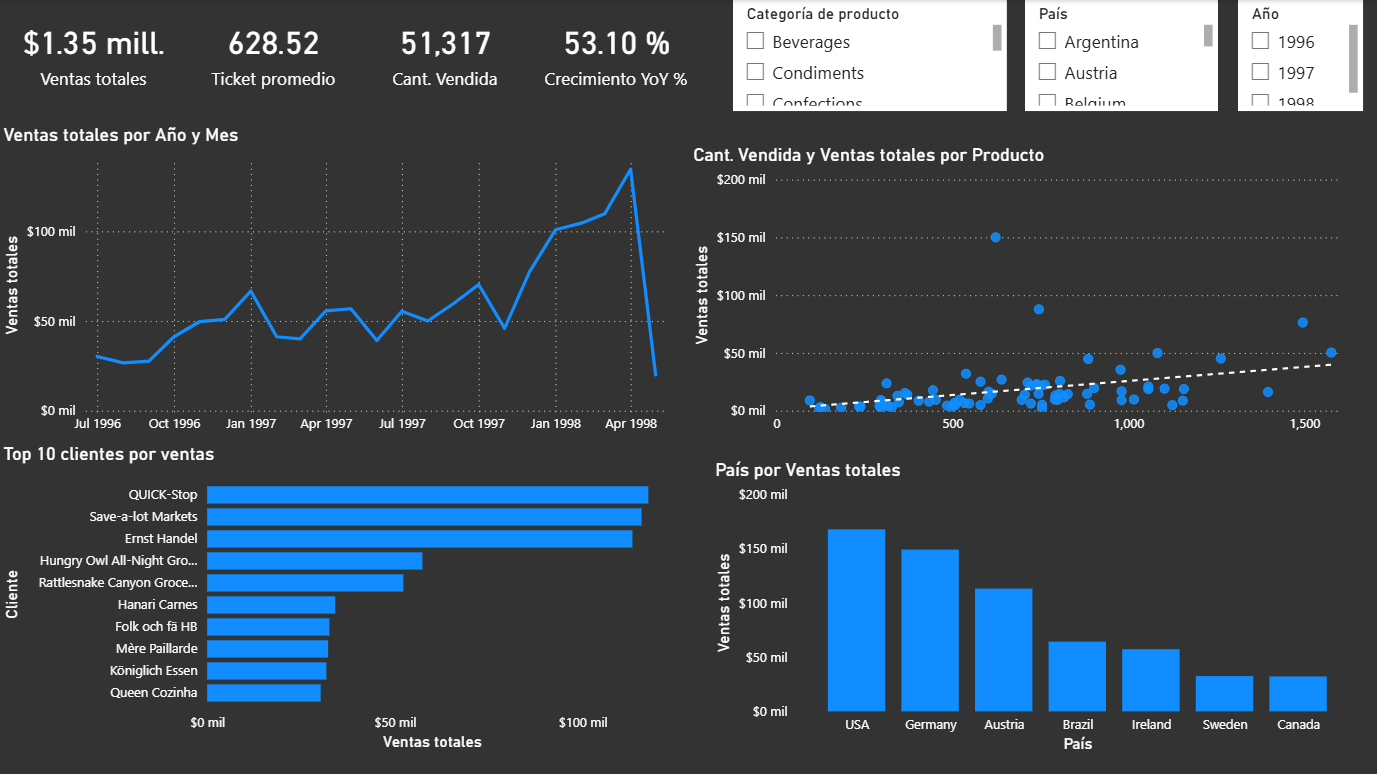

This screenshot's page, from the dashboard's own definition file:
{"tool":"powerbi","page":{"name":"Ventas","canvas":[1280,720],"ordinal":0},"visuals":[{"type":"card","fields":{"Values":["FACTSales.Ventas totales"]},"box":[0,0,177.2,96.5],"z":1000},{"type":"card","fields":{"Values":["FACTSales.Ticket promedio"]},"box":[135.4,0,240.2,96.5],"z":2000},{"type":"lineChart","fields":{"Y":["FACTSales.Ventas totales"],"Category":["DimDate.Date.Variación.Jerarquía de fechas.Año","DimDate.Date.Variación.Jerarquía de fechas.Mes"]},"box":[0,115,640,295.9],"z":3000},{"type":"slicer","fields":{"Values":["DimDate.Año"]},"box":[1149.9,0,115.9,103.3],"z":4000},{"type":"slicer","fields":{"Values":["DimCustomer.País"]},"box":[952.1,0,178.8,103.3],"z":5000},{"type":"slicer","fields":{"Values":["DimProduct.CategoriaProducto"]},"box":[681.4,0,254.4,103.3],"z":6000},{"type":"clusteredBarChart","title":"Top 10 clientes por ventas","fields":{"Category":["DimCustomer.Cliente"],"Y":["FACTSales.Ventas totales"]},"box":[0,410.9,640,290.3],"z":7000},{"type":"columnChart","title":"País por Ventas totales","fields":{"Category":["DimCustomer.País"],"Y":["FACTSales.Ventas totales"]},"box":[659.9,425.7,605.8,277.1],"z":8000},{"type":"card","fields":{"Values":["FACTSales.Cantidad total vendida"]},"box":[320,0,189.2,96.5],"z":9000},{"type":"card","fields":{"Values":["FACTSales.Crecimiento YoY %"]},"box":[478.6,0,189.2,96.5],"z":10000},{"type":"scatterChart","fields":{"X":["FACTSales.Cantidad total vendida"],"Y":["FACTSales.Ventas totales"],"Category":["DimProduct.Producto"]},"box":[640,133.6,624.2,277.3],"z":12000},{"type":"tableEx","fields":{"Values":["DimCustomer.País","DimCustomer.Clientes activos"]},"box":[1070.5,720.4,209.1,279.6],"z":13000}]}

Visuals, with their boxes in screenshot pixels (x1, y1, x2, y2), scaled from the page's 1280x720 canvas onto the 1377x774 screenshot:
card - FACTSales.Ventas totales: region(0, 0, 191, 104)
card - FACTSales.Ticket promedio: region(146, 0, 404, 104)
lineChart - FACTSales.Ventas totales x DimDate.Date.Variación.Jerarquía de fechas.Año: region(0, 124, 688, 442)
slicer - DimDate.Año: region(1237, 0, 1362, 111)
slicer - DimCustomer.País: region(1024, 0, 1217, 111)
slicer - DimProduct.CategoriaProducto: region(733, 0, 1007, 111)
"Top 10 clientes por ventas" clusteredBarChart: region(0, 442, 688, 754)
"País por Ventas totales" columnChart: region(710, 458, 1362, 756)
card - FACTSales.Cantidad total vendida: region(344, 0, 548, 104)
card - FACTSales.Crecimiento YoY %: region(515, 0, 718, 104)
scatterChart - FACTSales.Cantidad total vendida x FACTSales.Ventas totales: region(688, 144, 1360, 442)
